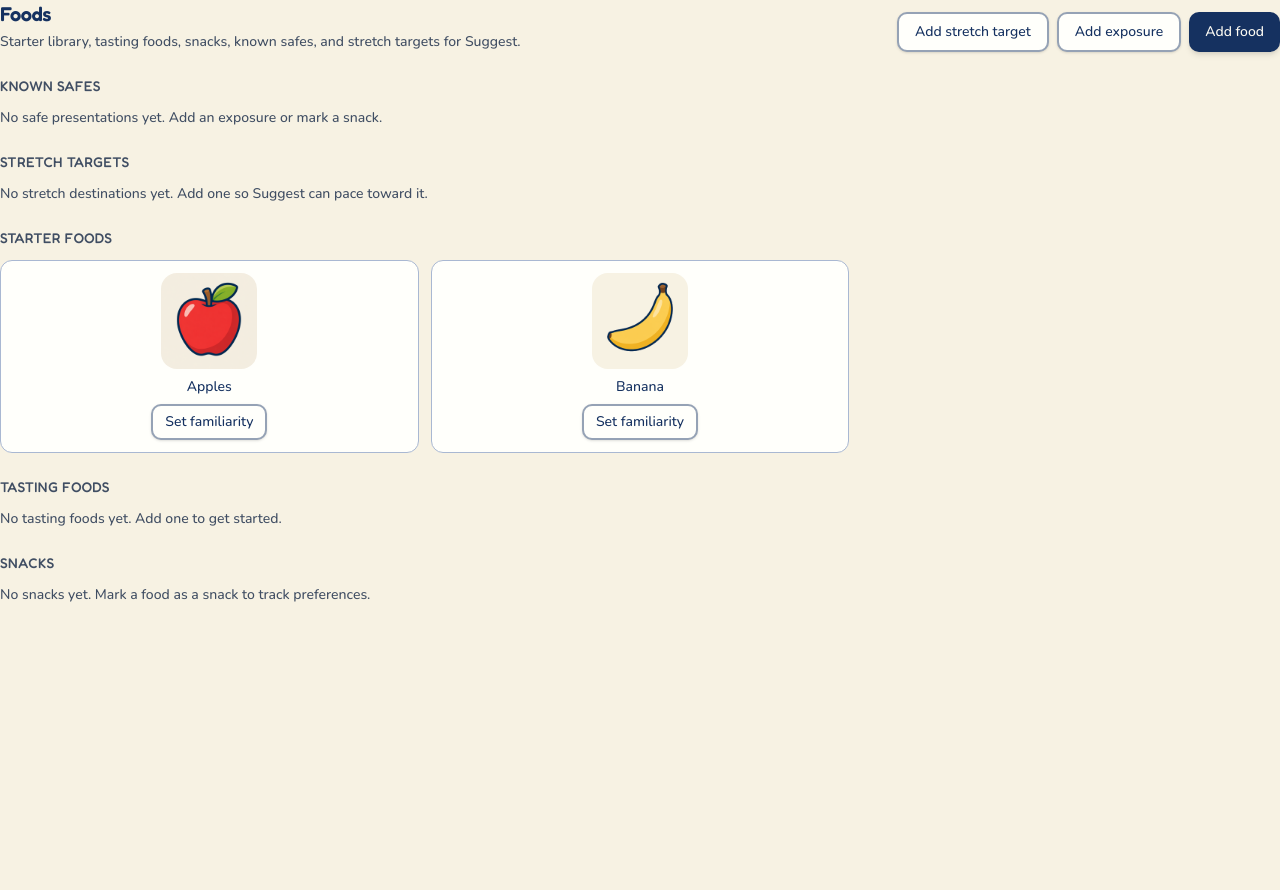
FoodsPage › surfaces create errors including duplicate names
This screenshot has width=1280, height=890.
Expected: the text "Apples" is shown, [187,377,232,396]
Click the button "Add food".
click(1235, 32)  # box [1189,12,1279,52]
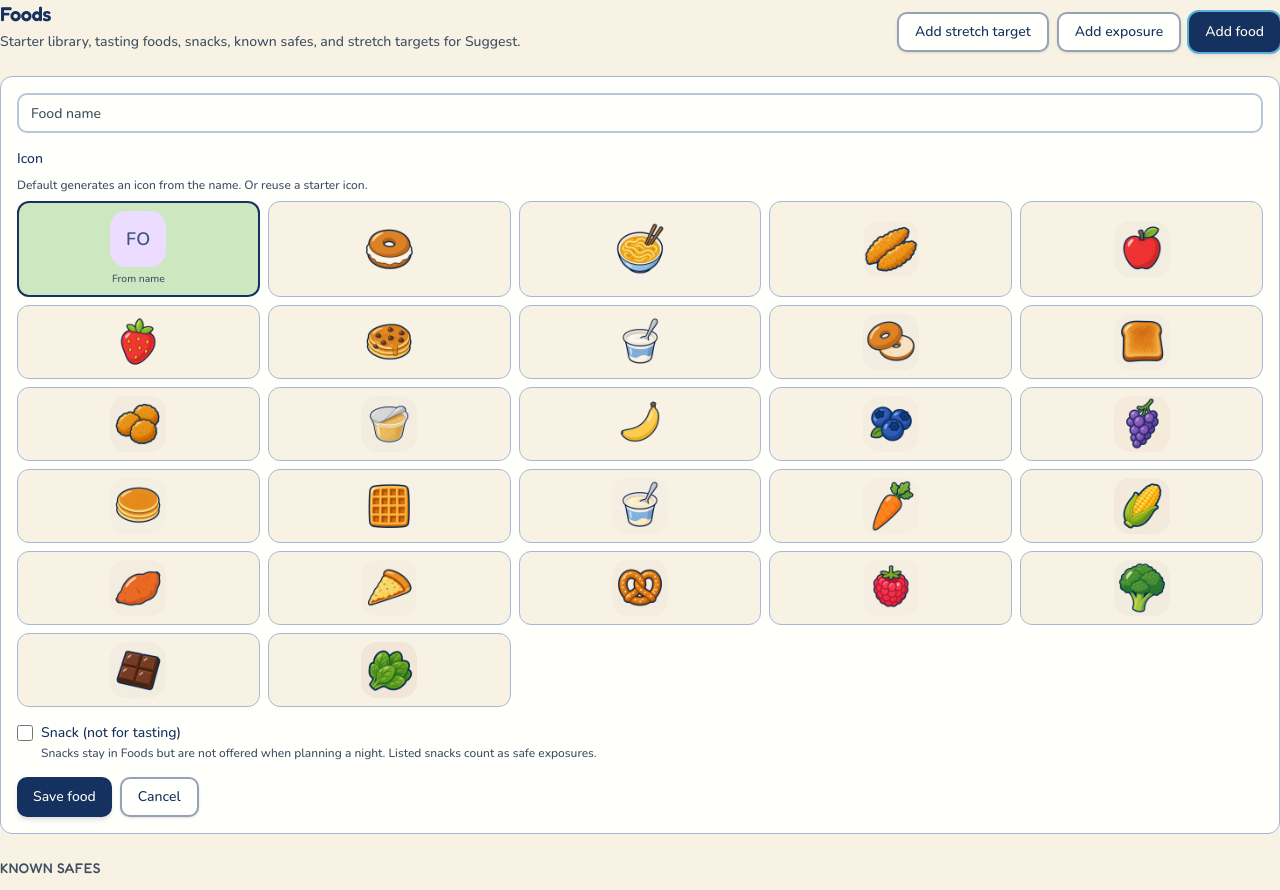
Type "Watermelon" into the field labelled "Food name".
click(640, 113); type("Watermelon")  # box [17,93,1263,133]
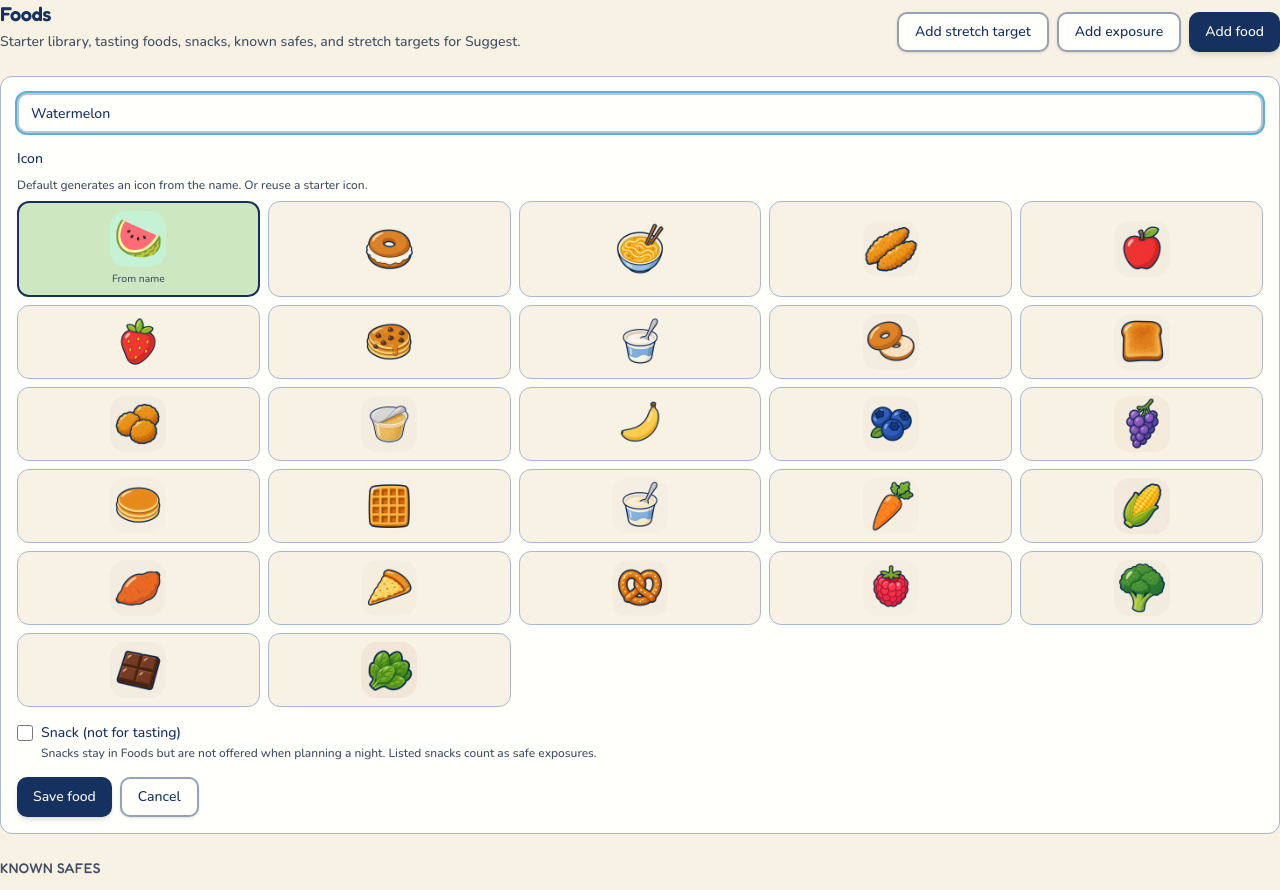
Click the button "Save food".
click(64, 797)  # box [17,777,112,817]
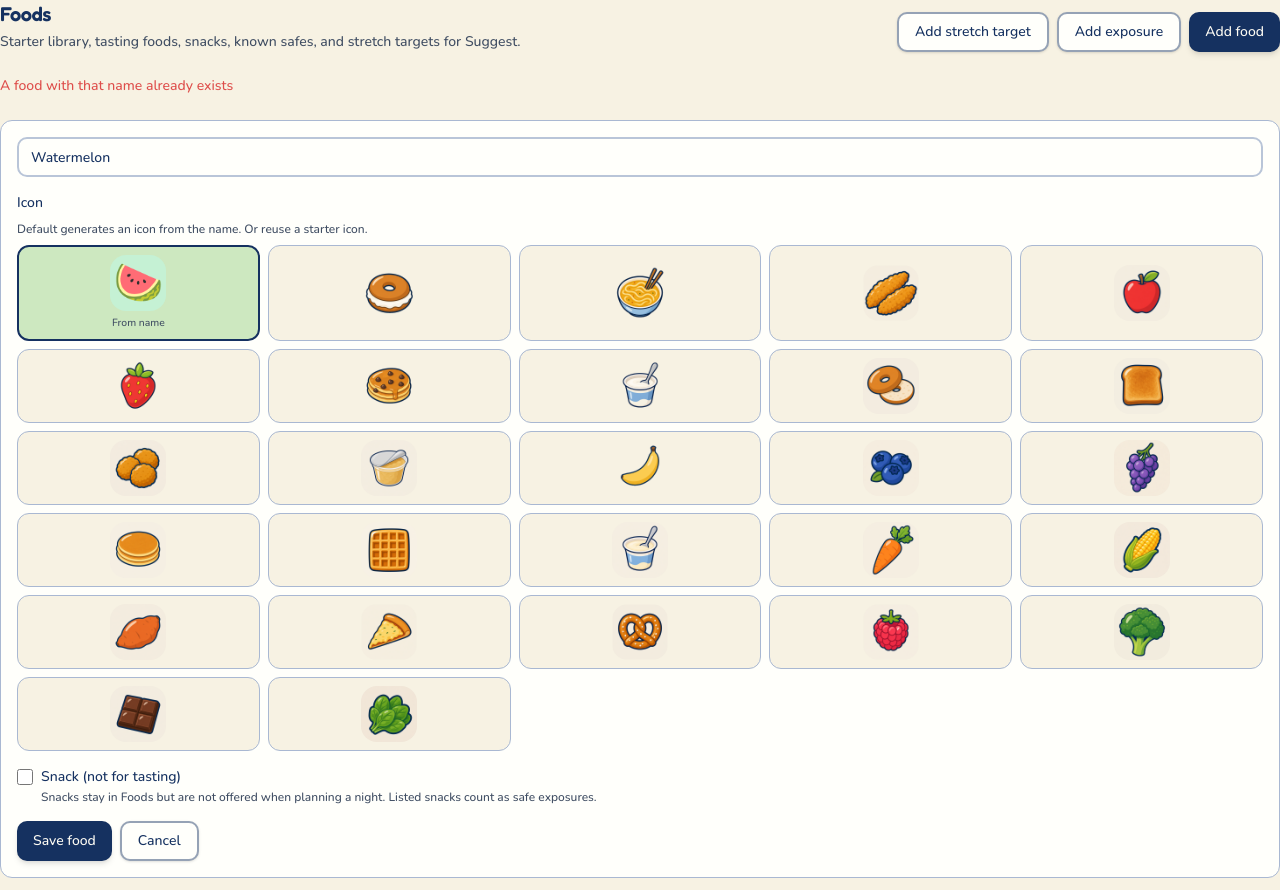
Expected: the message reads "A food with that name already exists", [0,76,233,95]
